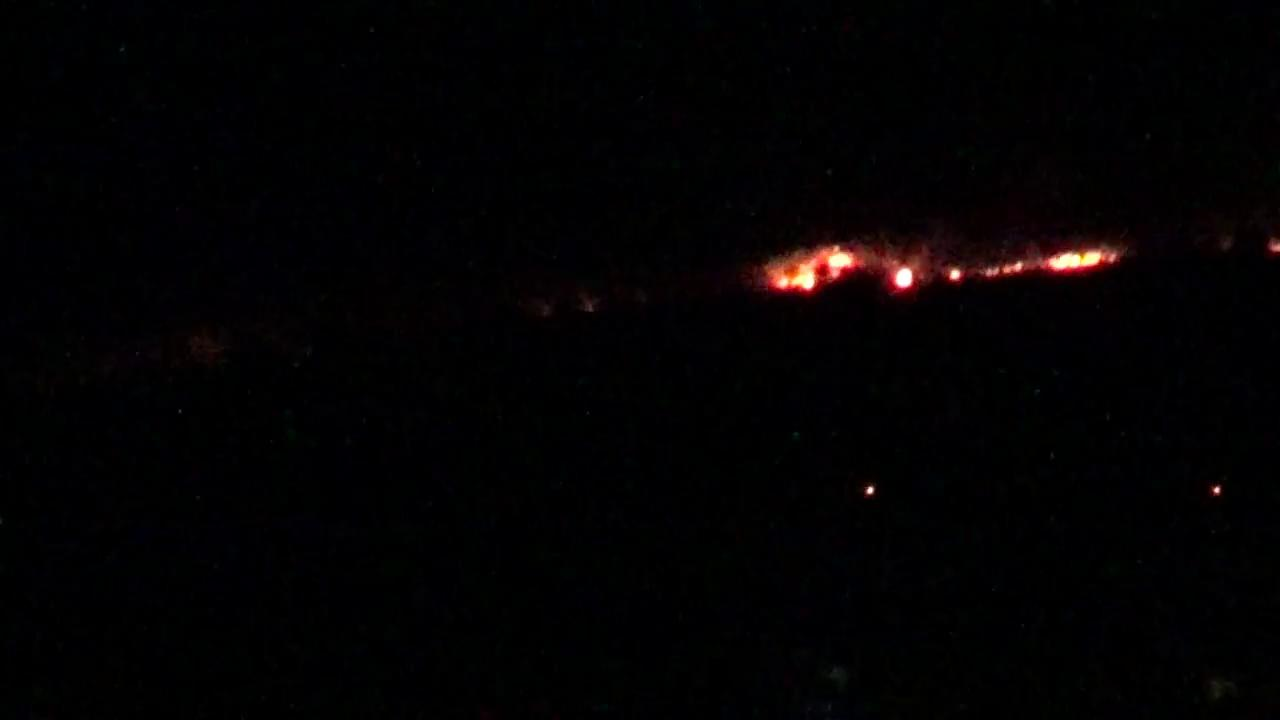fire: (774, 248, 862, 290), (1050, 248, 1110, 268), (894, 266, 920, 288)
